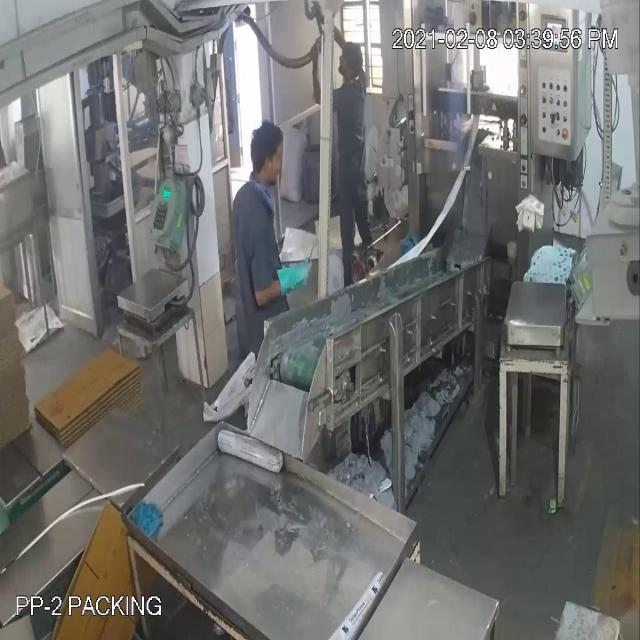Gloves: (268, 253, 318, 315)
